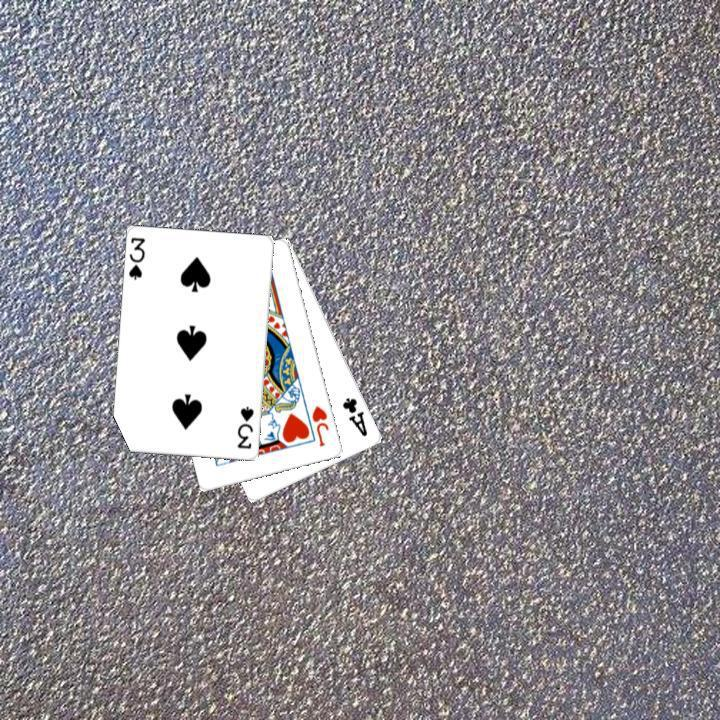3: (233, 402, 256, 451), (125, 233, 147, 282)
A: (338, 393, 370, 439)
J: (308, 401, 331, 449)
